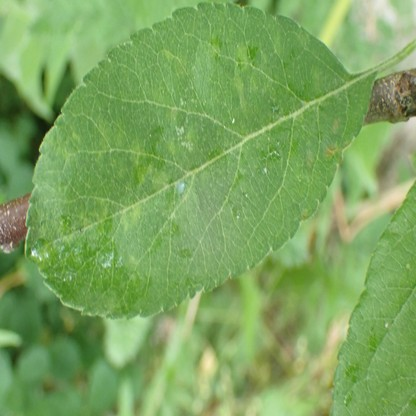scab: (81, 199, 111, 242), (120, 201, 141, 231), (234, 41, 248, 76), (152, 165, 169, 188), (99, 120, 111, 148), (271, 27, 281, 59), (312, 67, 323, 93), (129, 141, 142, 163), (113, 128, 127, 148), (298, 28, 311, 48), (186, 123, 196, 147), (208, 43, 219, 56), (167, 138, 175, 153), (326, 146, 335, 157), (333, 119, 338, 133), (301, 209, 307, 220), (306, 157, 312, 167)
